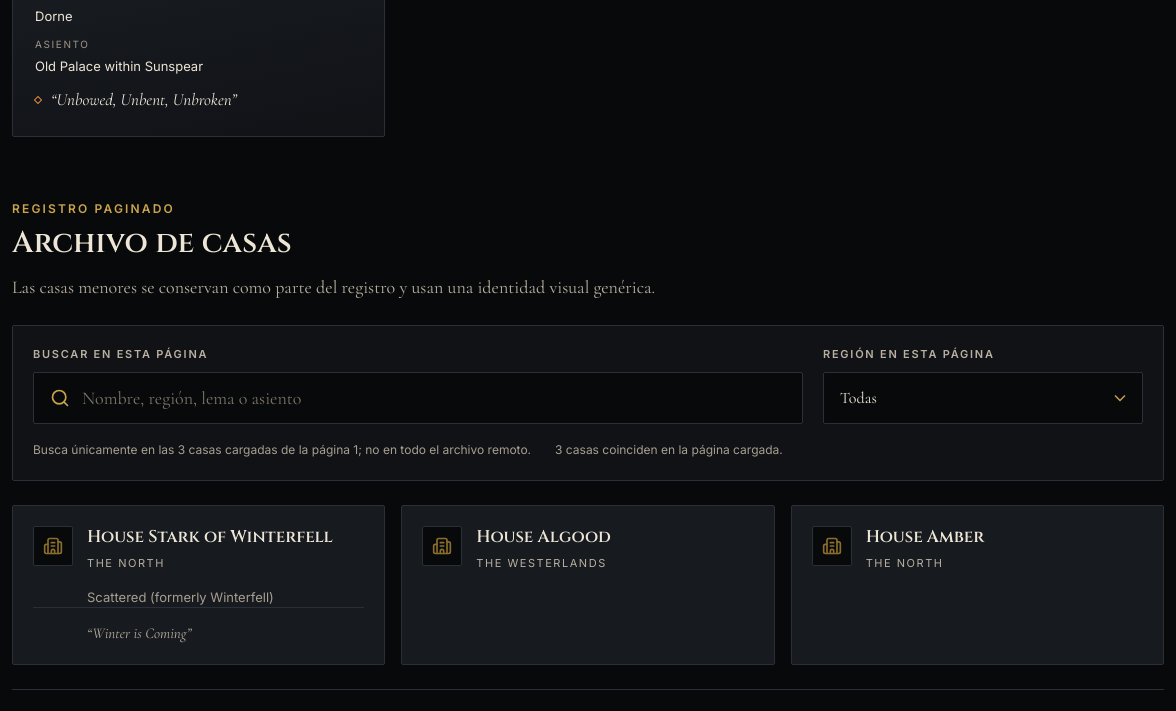
Scenario: CasasPage › busca por nombre solo dentro de la página cargada
The image size is (1176, 711).
(page scrolled)
Expected: the heading "House Algood" is shown, [476, 525, 611, 548]
Step 1. Type "Algood" into the search field named "Buscar en la página cargada del archivo de casas" → (434, 398), box [82, 372, 786, 424]
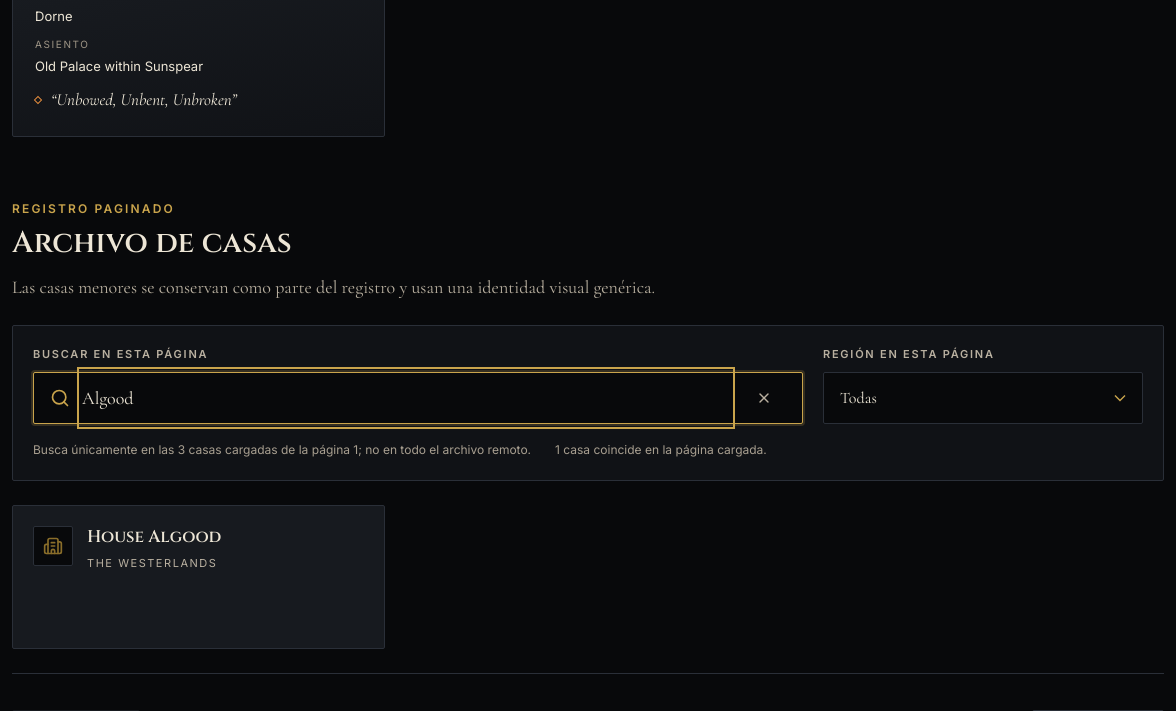
Expected: the heading "House Algood" is shown, [87, 525, 221, 548]
Result: the link "House Amber" is gone
